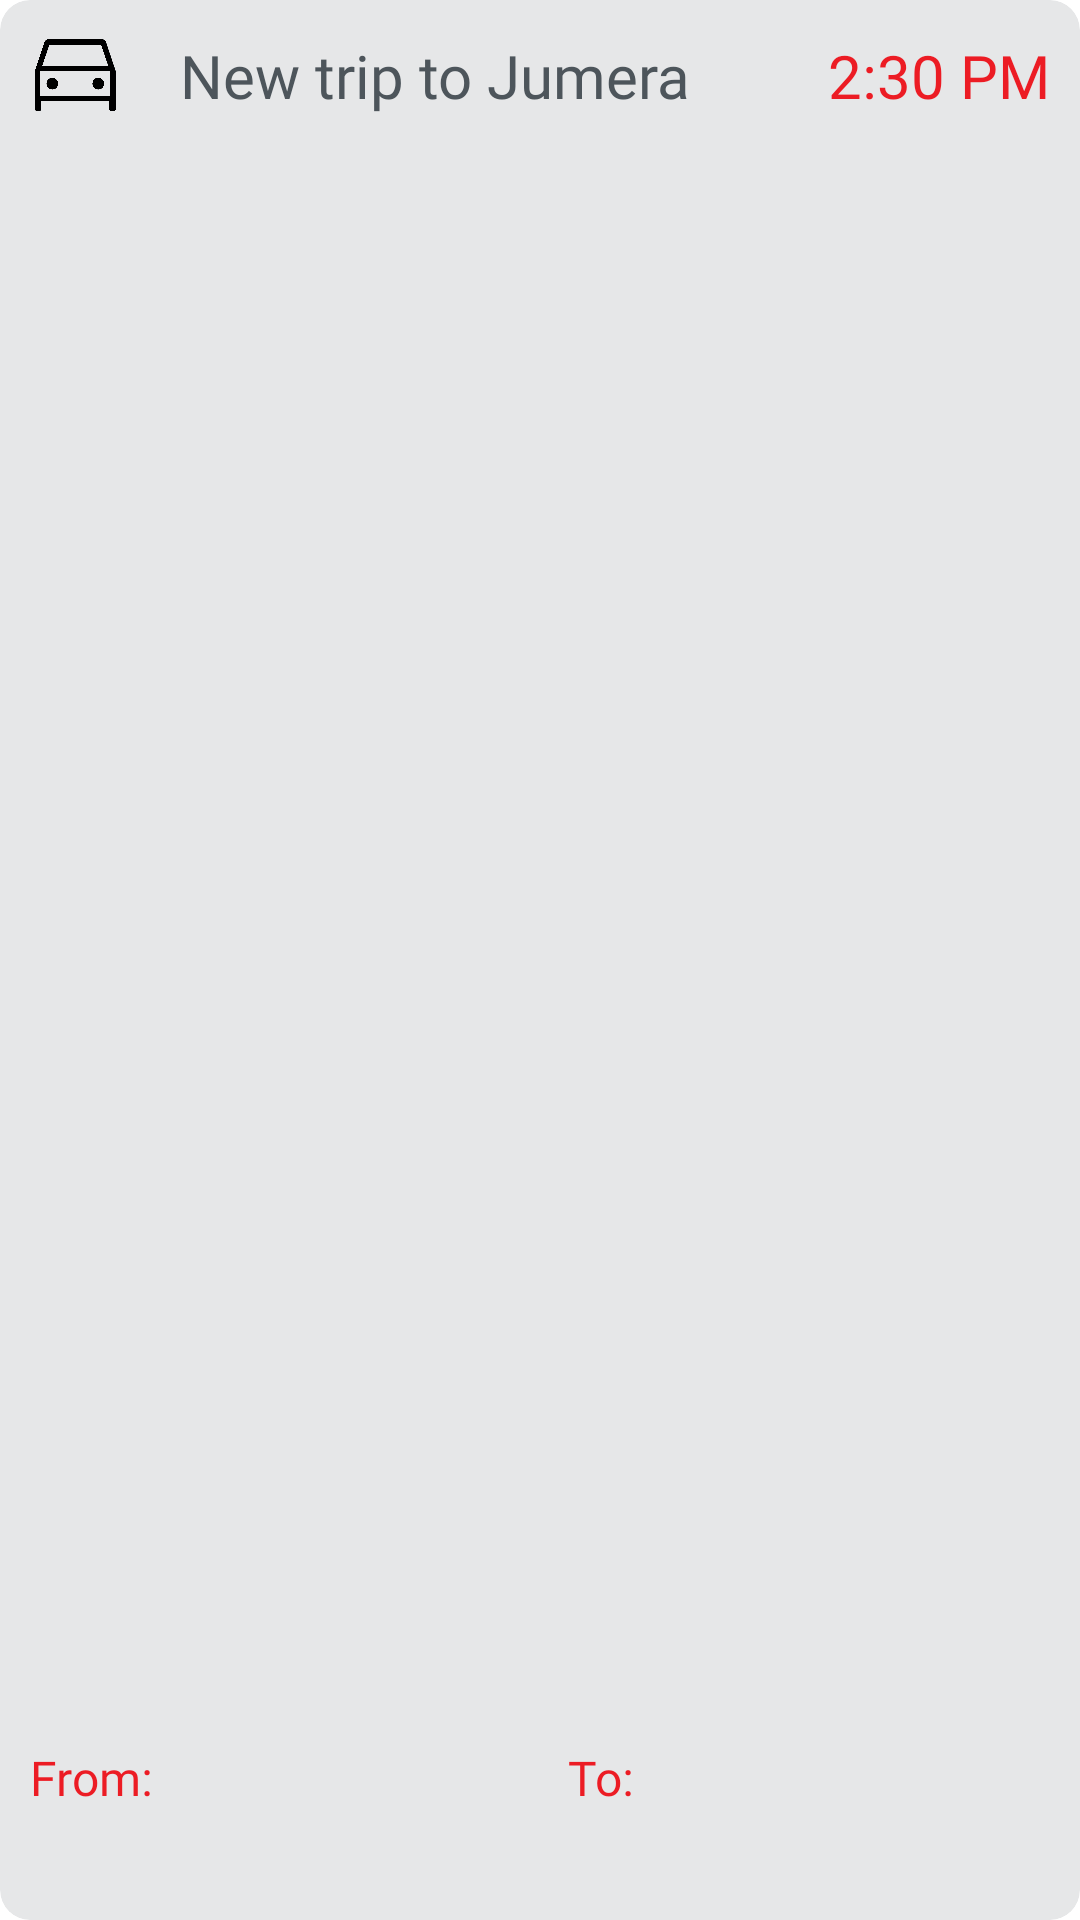

Named icons in this screenshot (1080×1920) and their centers, point (x, y):
car: point (75, 75)
